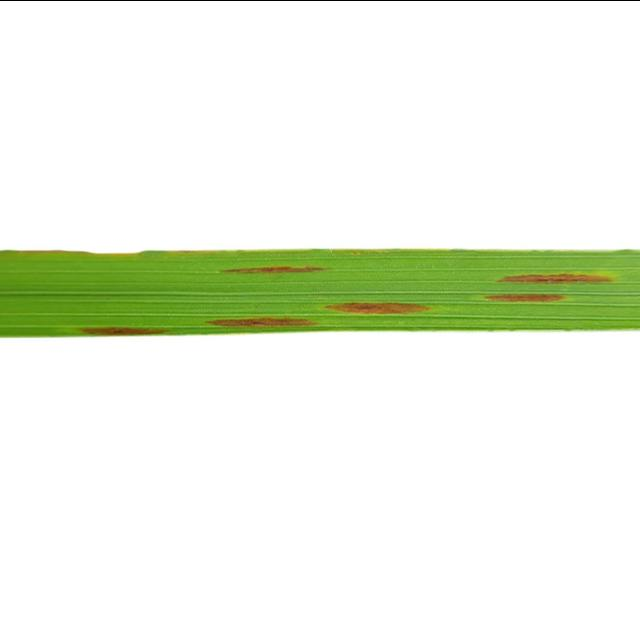Narrow brown: (0, 203, 640, 375)
